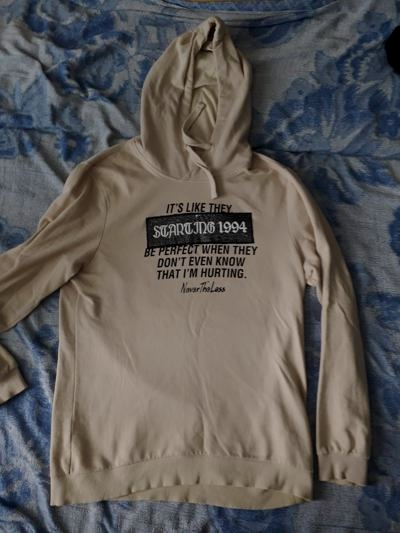Hoodie: (3, 27, 384, 525)
